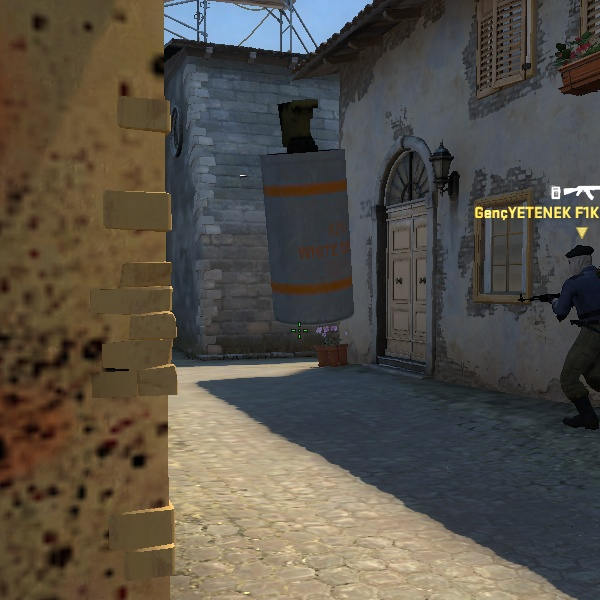t_body: (519, 233, 600, 438)
